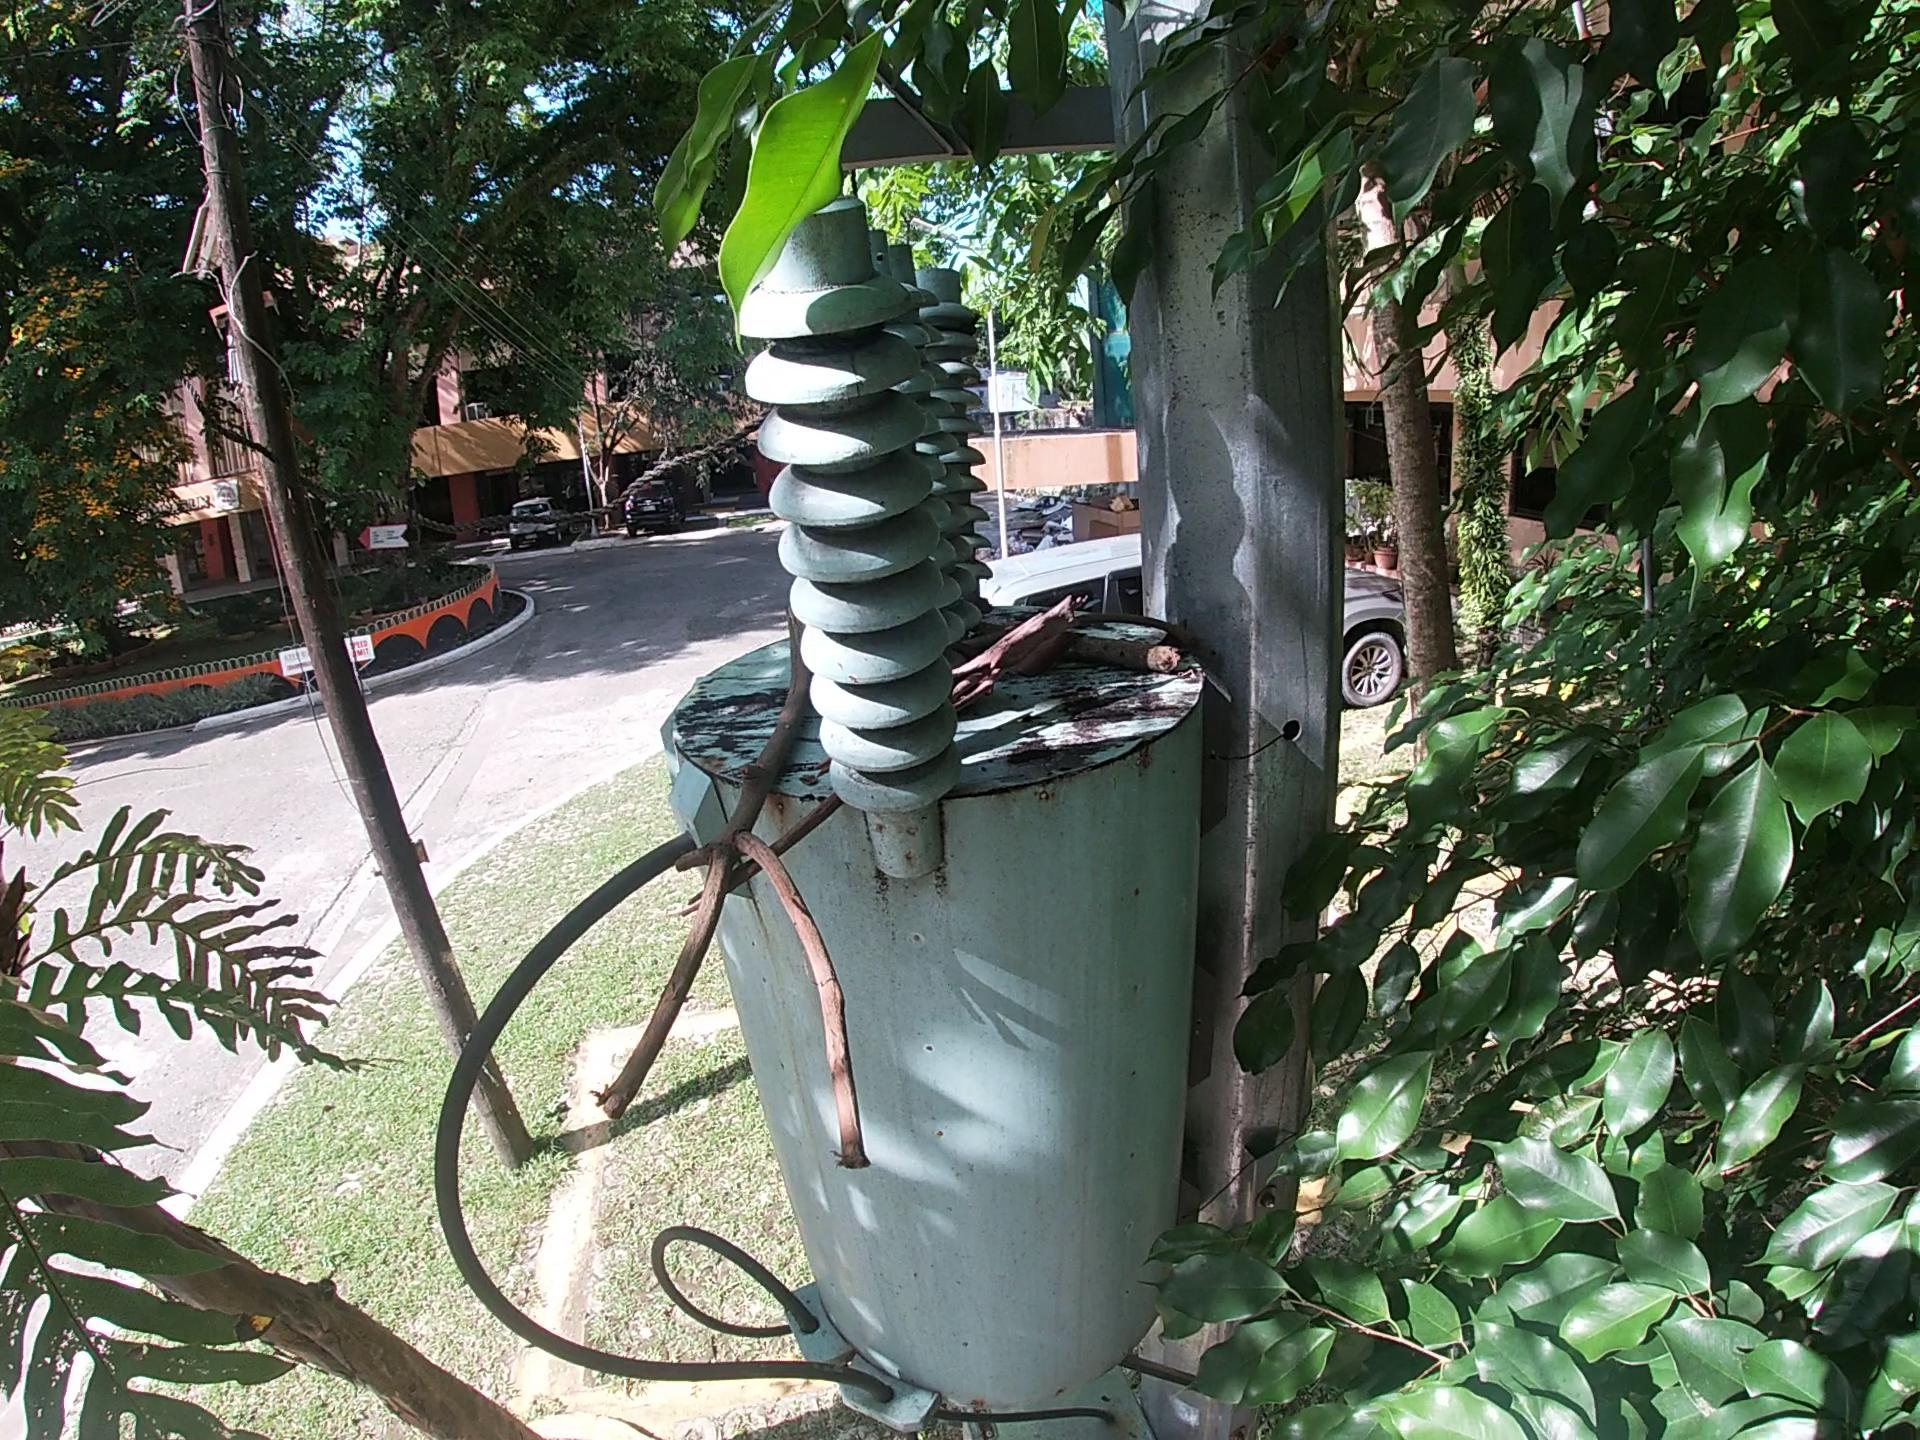tree branch: (593, 582, 943, 1174), (946, 604, 1076, 705), (1051, 635, 1191, 678), (1039, 613, 1237, 638), (963, 628, 999, 659)
